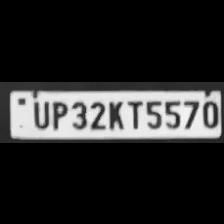0: (199, 98, 219, 128)
2: (87, 98, 105, 130)
3: (69, 97, 87, 128)
5: (144, 97, 162, 129), (162, 97, 180, 129)
7: (180, 97, 198, 129)
K: (105, 98, 125, 130)
P: (48, 97, 68, 128)
T: (125, 96, 143, 130)
U: (28, 97, 50, 128)
